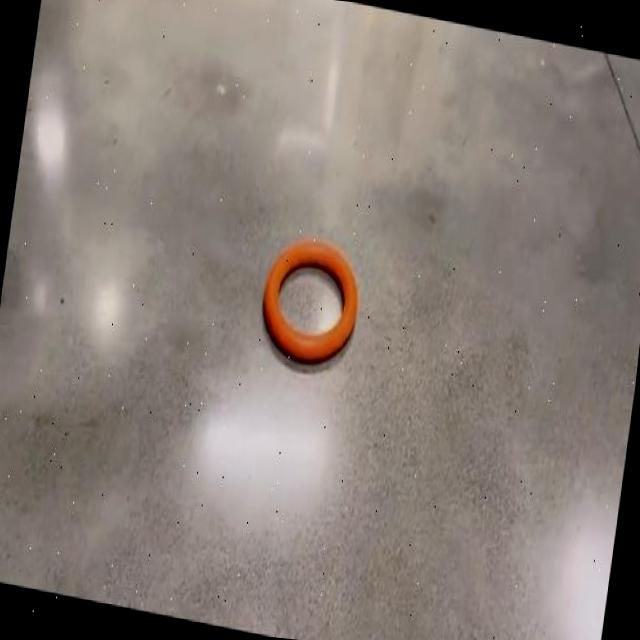note: (262, 237, 357, 360)
